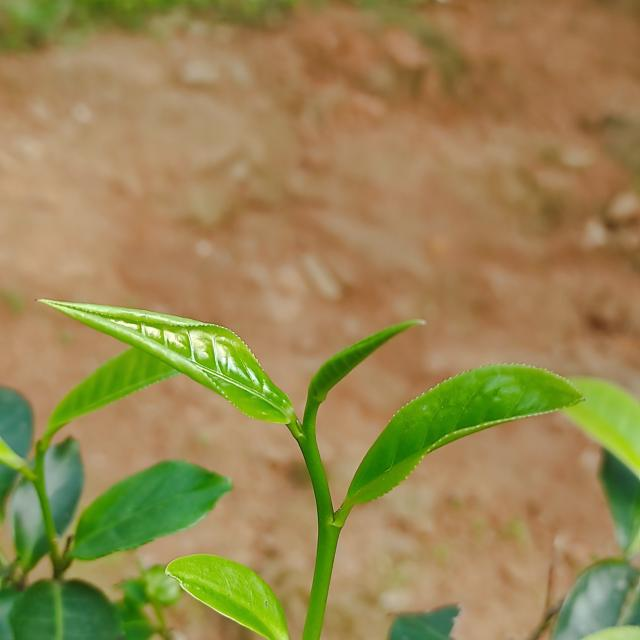unopened_leaf: (296, 306, 437, 428)
